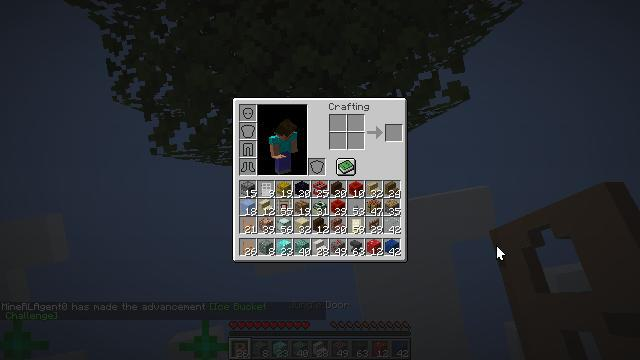cursor: (496, 245, 506, 261)
